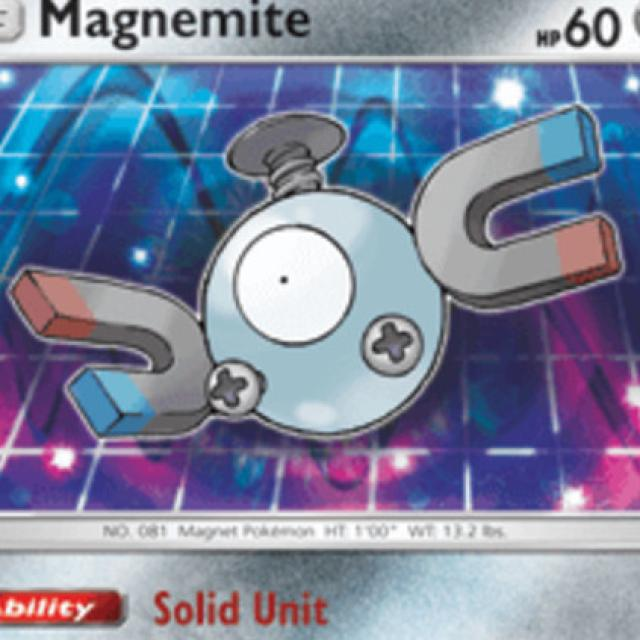Magnemite: (0, 115, 602, 435)
